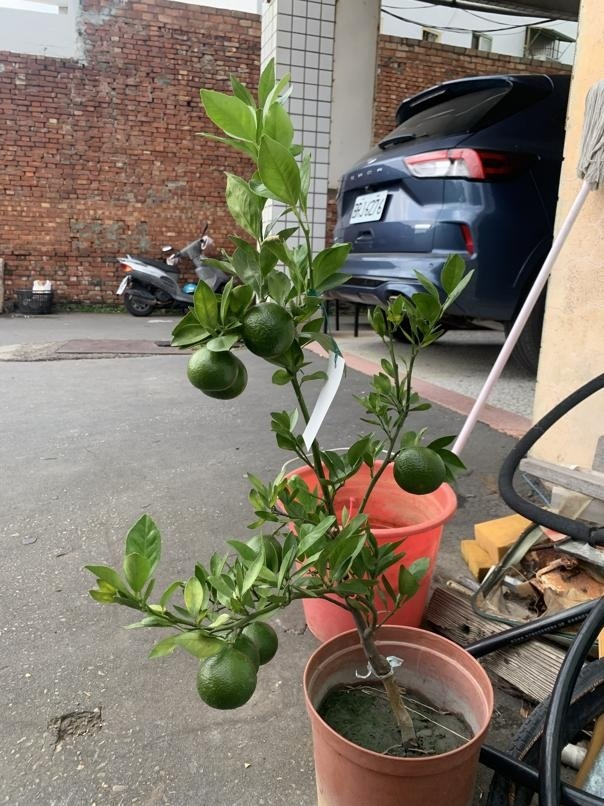Tangerine: (195, 653, 259, 712), (240, 301, 298, 360), (392, 441, 449, 498), (185, 340, 239, 391)
